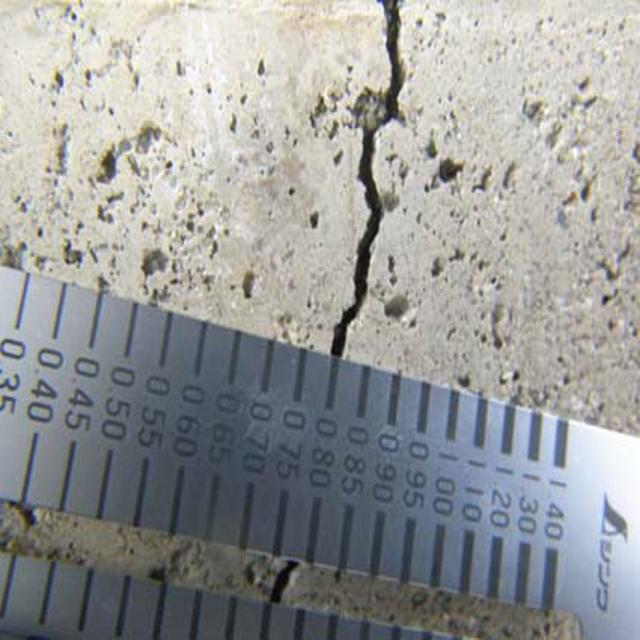crack: (317, 3, 427, 364), (236, 549, 321, 617)
